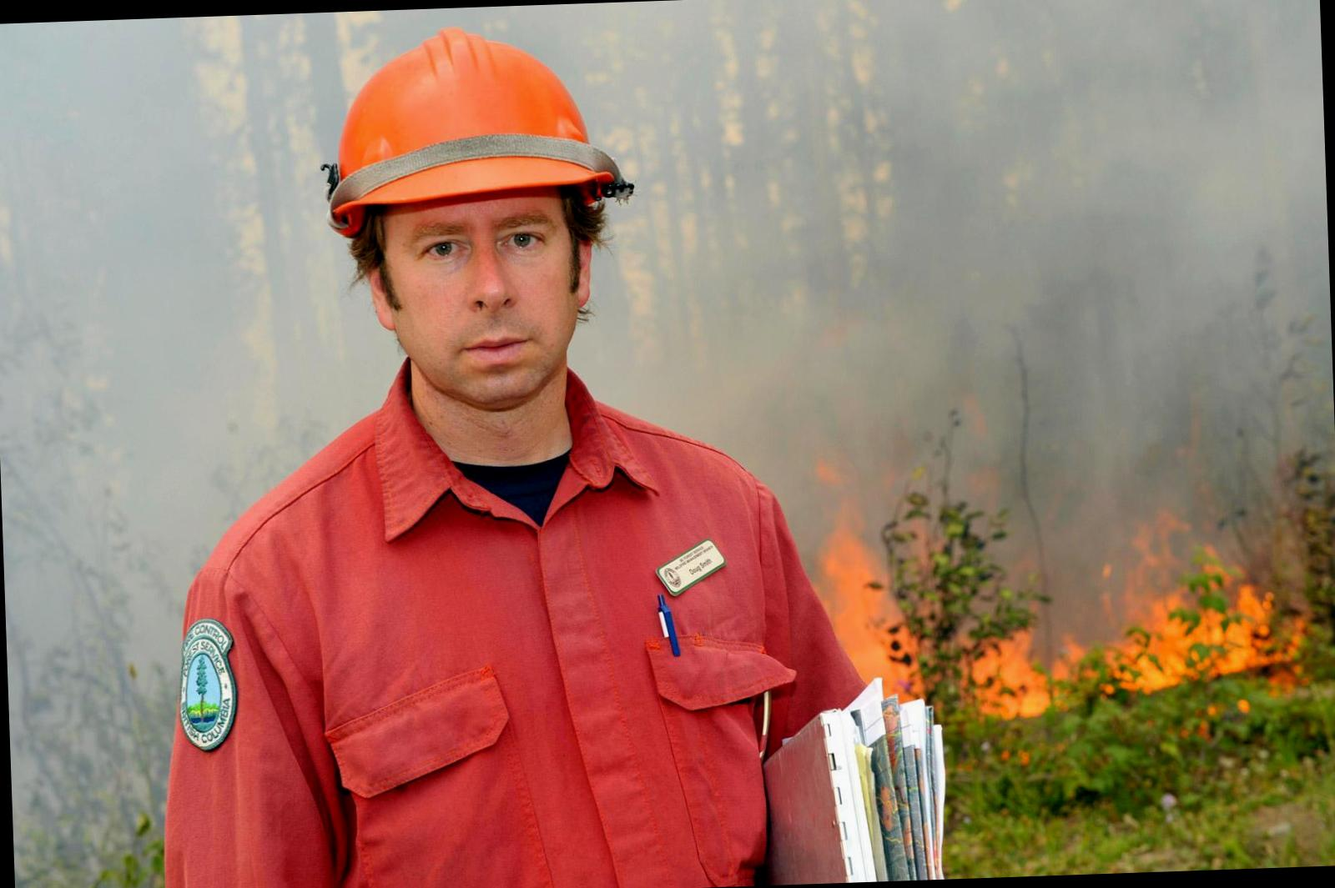helmet: (318, 34, 634, 221)
person: (143, 25, 786, 888)
